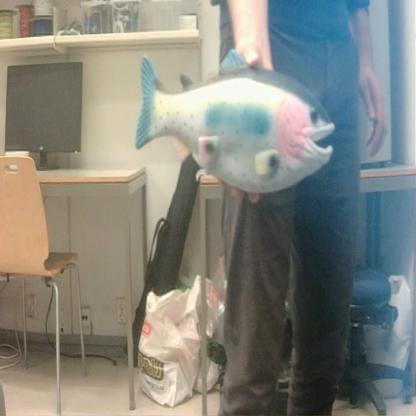rubberfish: (130, 42, 340, 200)
